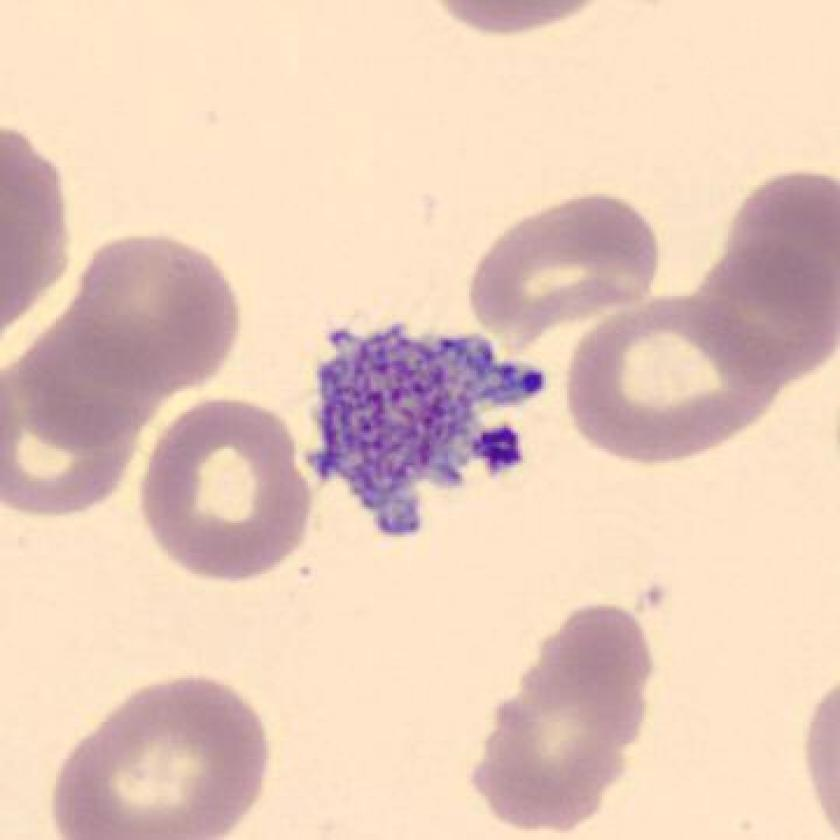platelets: (297, 316, 554, 547)
